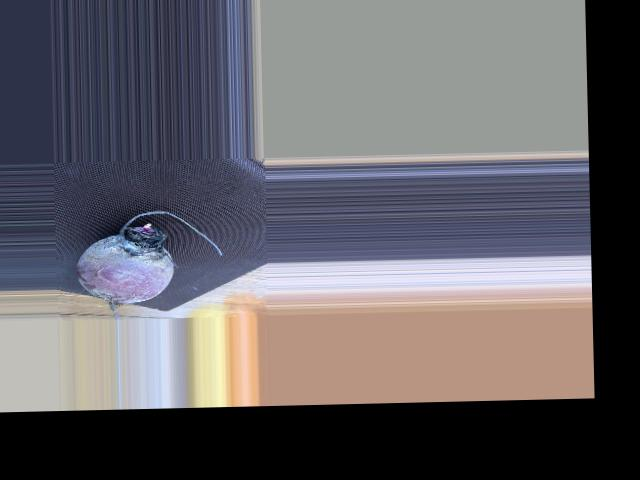beet: (74, 208, 223, 320)
